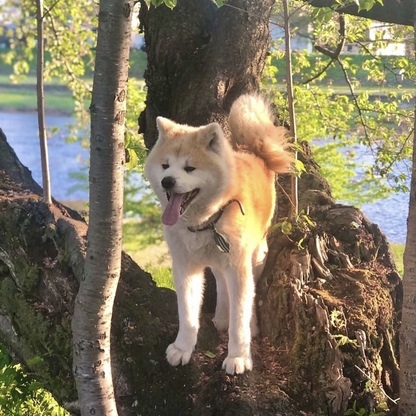akita: (136, 88, 305, 380)
